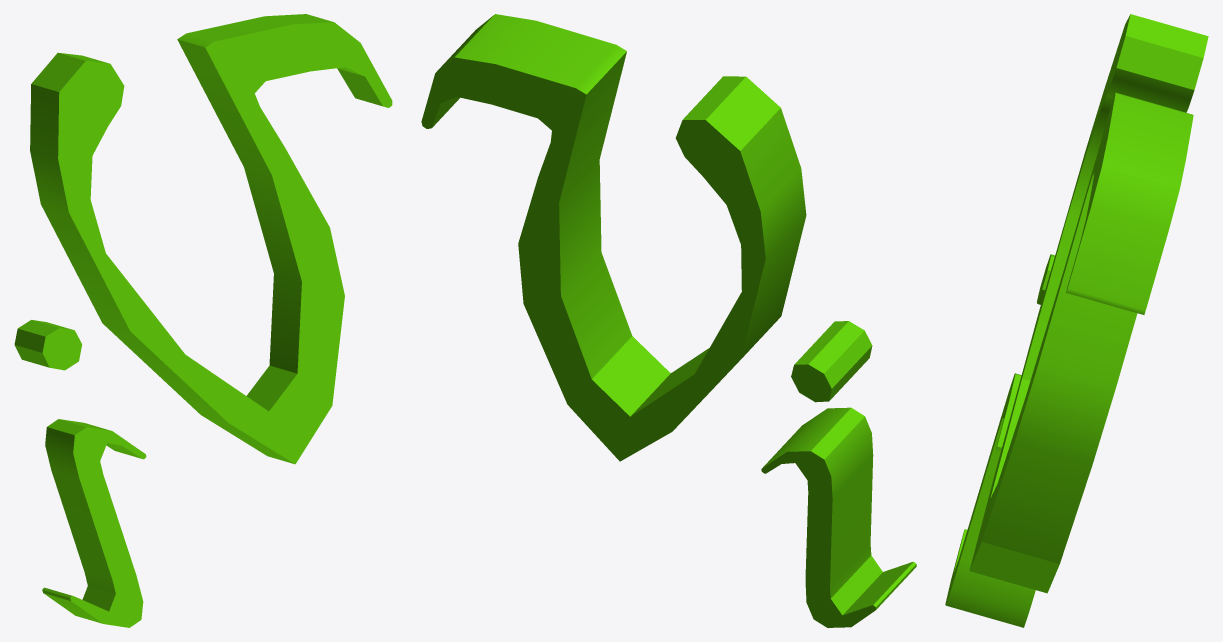
3 renders of one model, left to right at view 1: azimuth 30°, elevation 25°; view 2: azimuth 150°, elevation 25°; view 3: azimuth 270°, elevation 25°, orthographic. The views are drawn at different scales.
Visible parts, largest first — view 1: vi; view 2: vi; view 3: vi.
Boxes of the visible parts, left/top/right/bottom form: vi: left=14, top=14, right=392, bottom=627; vi: left=421, top=14, right=916, bottom=627; vi: left=945, top=14, right=1208, bottom=627.
Bounding box in the file's own units: 2.86 × 3.86 × 1.46.
